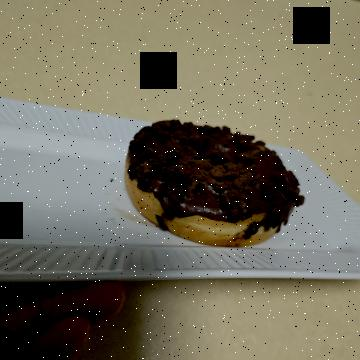doughnut: (97, 56, 264, 252)
